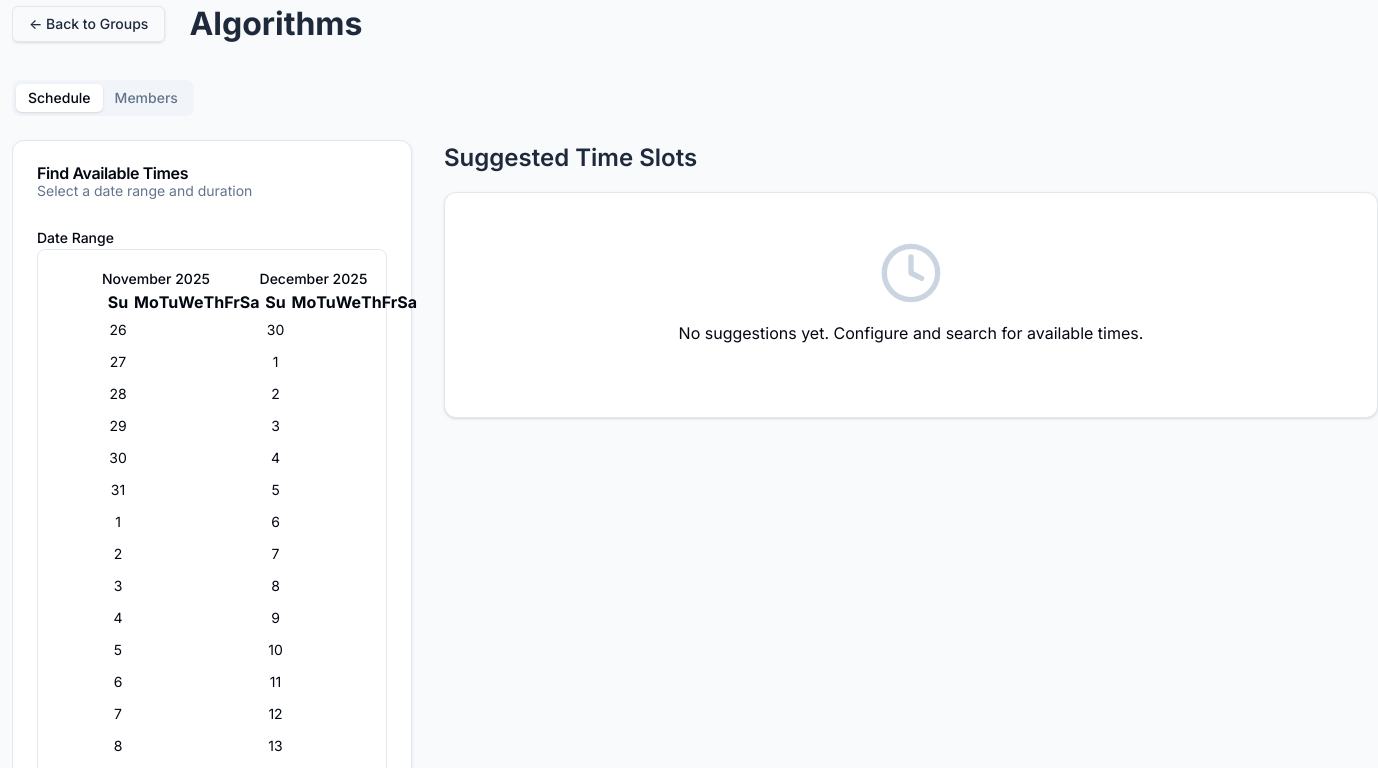
GroupDetail › shows members when members tab is selected
The width and height of the screenshot is (1378, 768).
Click the tab with test id "members-tab" at (146, 98), box [103, 84, 190, 112]
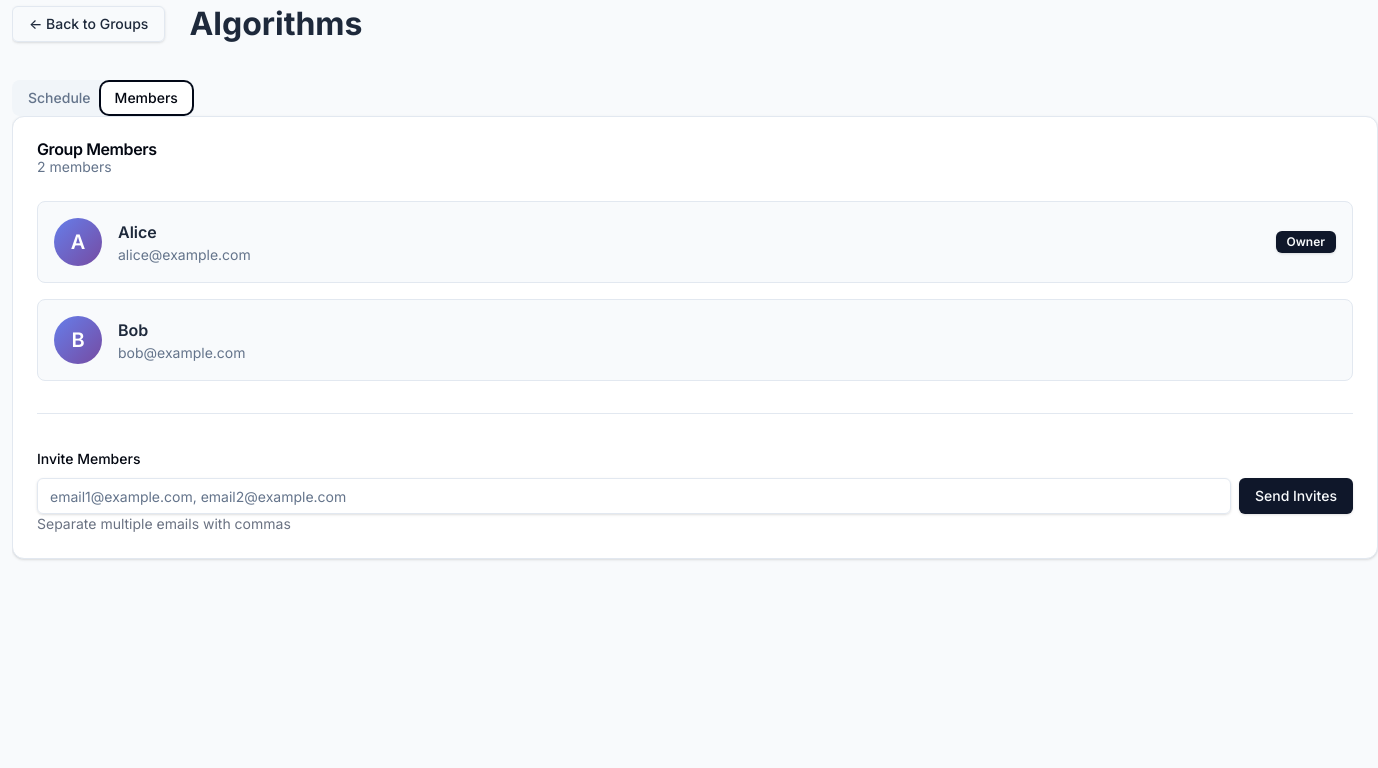
Check: the element with test id "member-10" shows "Alice", box [118, 222, 157, 242]
Check: the element with test id "member-11" shows "Bob", box [118, 320, 148, 340]
